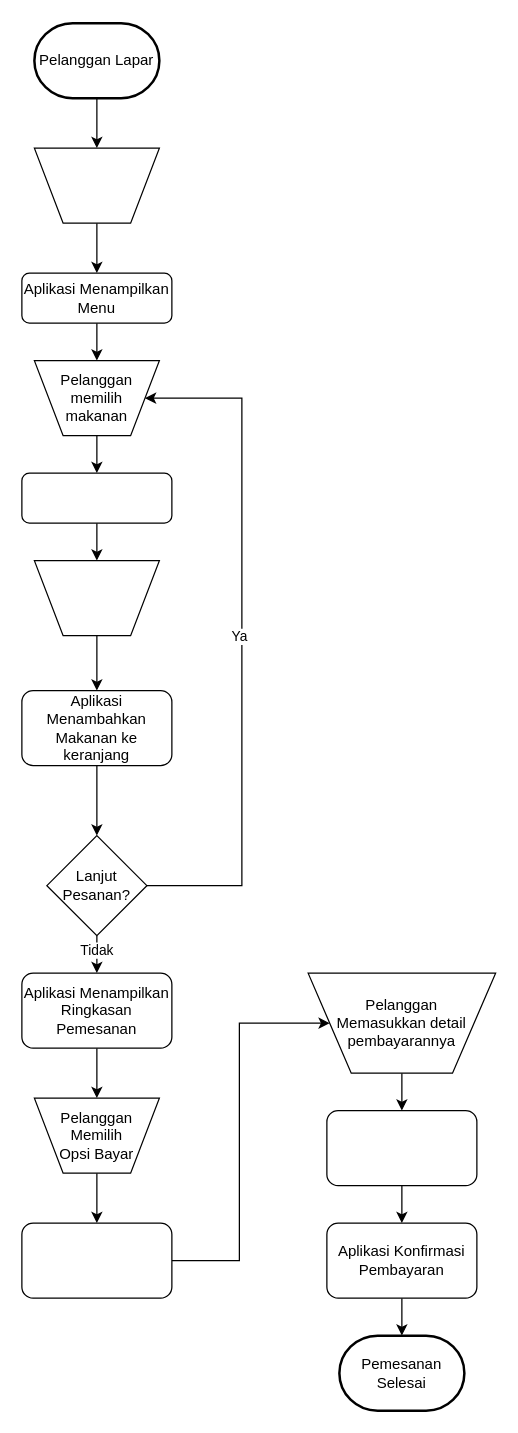
Some shapes in this 518 by 1433 pixel diagram are drawn without their labels. Here are the shapes that lost their labels. From the top down, the box of each, then its label:
(33, 147, 159, 223): Pelanggan membuka aplikasi
(21, 472, 172, 523): Aplikasi Menampilkan Detail Makanan
(33, 559, 159, 636): Pelanggan Memilih Jumlah Makanan
(326, 1109, 477, 1186): Aplikasi Proses Pembayaran
(21, 1222, 172, 1298): Aplikasi Mengarahkan ke menu pembayaran
